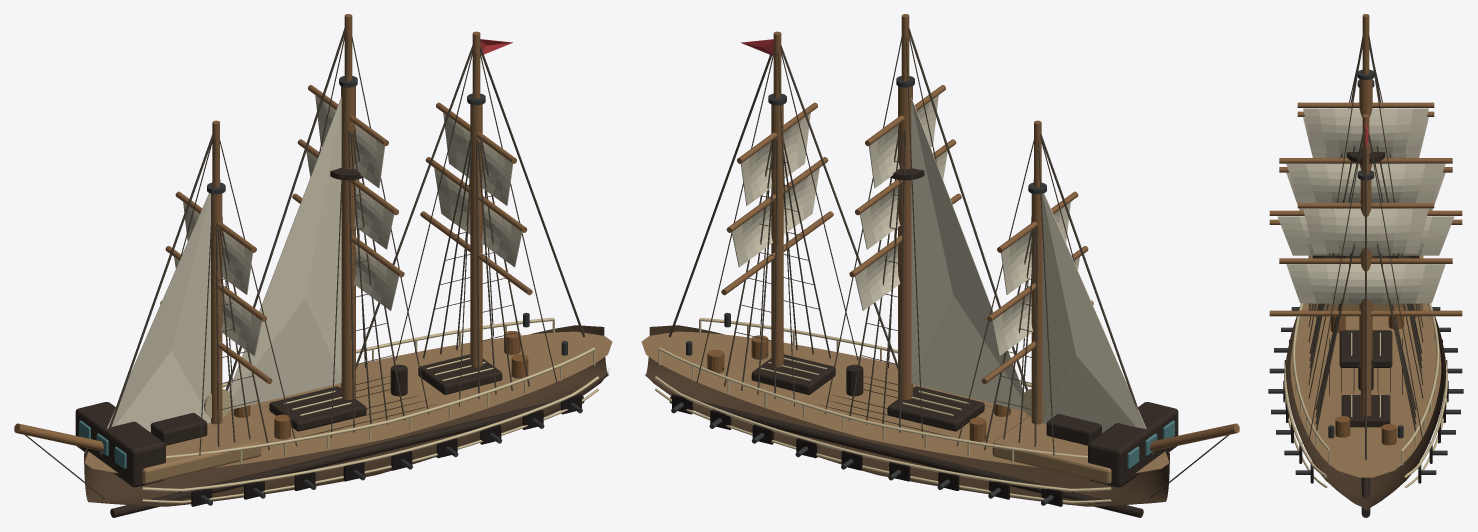
Rendered from wayward-gull-detailed.glb.
The picture shows the model from 3 angles, left to right: view 1: azimuth 30°, elevation 25°; view 2: azimuth 150°, elevation 25°; view 3: azimuth 270°, elevation 25°; orthographic projection. The views are drawn at different scales.
Parts seen in each view (by area): view 1: Main_staysail, Deck_planked_oak, Fore_jib, Hull_detailed_oak, Standing_rigging_merged, Running_rigging_merged, Mast.001, Stern_gallery, Keel, Quarterdeck, Mast.002, Square_sail.006 (+24 smaller); view 2: Main_staysail, Deck_planked_oak, Fore_jib, Hull_detailed_oak, Standing_rigging_merged, Running_rigging_merged, Mast.001, Stern_gallery, Keel, Quarterdeck, Mast.002, Square_sail.006 (+24 smaller); view 3: Deck_planked_oak, Square_sail.006, Square_sail.003, Square_sail.005, Square_sail.002, Hull_detailed_oak, Running_rigging_merged, Standing_rigging_merged, Square_sail.004, Mast.002, Main_hatch, Cannon_barrel_merged (+24 smaller).
Boxes of the visible parts, x1=… form: Main_staysail: x1=228, y1=97, x2=341, y2=409; Deck_planked_oak: x1=84, y1=331, x2=612, y2=473; Fore_jib: x1=106, y1=193, x2=210, y2=432; Hull_detailed_oak: x1=84, y1=325, x2=609, y2=506; Standing_rigging_merged: x1=215, y1=128, x2=529, y2=449; Running_rigging_merged: x1=179, y1=35, x2=557, y2=470; Mast.001: x1=341, y1=86, x2=355, y2=399; Stern_gallery: x1=75, y1=402, x2=165, y2=487; Keel: x1=110, y1=396, x2=584, y2=517; Quarterdeck: x1=142, y1=416, x2=261, y2=483; Mast.002: x1=470, y1=104, x2=482, y2=367; Square_sail.006: x1=434, y1=168, x2=522, y2=267; Main_staysail: x1=911, y1=98, x2=1024, y2=410; Deck_planked_oak: x1=641, y1=331, x2=1169, y2=473; Fore_jib: x1=1042, y1=193, x2=1146, y2=433; Hull_detailed_oak: x1=645, y1=325, x2=1169, y2=506; Standing_rigging_merged: x1=724, y1=128, x2=1038, y2=449; Running_rigging_merged: x1=696, y1=35, x2=1075, y2=470; Mast.001: x1=898, y1=86, x2=912, y2=399; Stern_gallery: x1=1088, y1=402, x2=1178, y2=487; Keel: x1=669, y1=396, x2=1143, y2=517; Quarterdeck: x1=992, y1=416, x2=1111, y2=483; Mast.002: x1=771, y1=104, x2=783, y2=367; Square_sail.006: x1=731, y1=168, x2=819, y2=267; Deck_planked_oak: x1=1290, y1=303, x2=1441, y2=477; Square_sail.006: x1=1286, y1=264, x2=1445, y2=303; Square_sail.003: x1=1286, y1=163, x2=1445, y2=202; Square_sail.005: x1=1303, y1=208, x2=1428, y2=253; Square_sail.002: x1=1303, y1=108, x2=1428, y2=153; Hull_detailed_oak: x1=1285, y1=304, x2=1446, y2=509; Running_rigging_merged: x1=1308, y1=34, x2=1423, y2=441; Standing_rigging_merged: x1=1309, y1=146, x2=1422, y2=431; Square_sail.004: x1=1277, y1=216, x2=1454, y2=255; Mast.002: x1=1360, y1=180, x2=1371, y2=416; Main_hatch: x1=1339, y1=330, x2=1392, y2=367; Cannon_barrel_merged: x1=1268, y1=307, x2=1463, y2=474.
Size of the model in its own units: 14.59 by 10.61 by 4.63.
